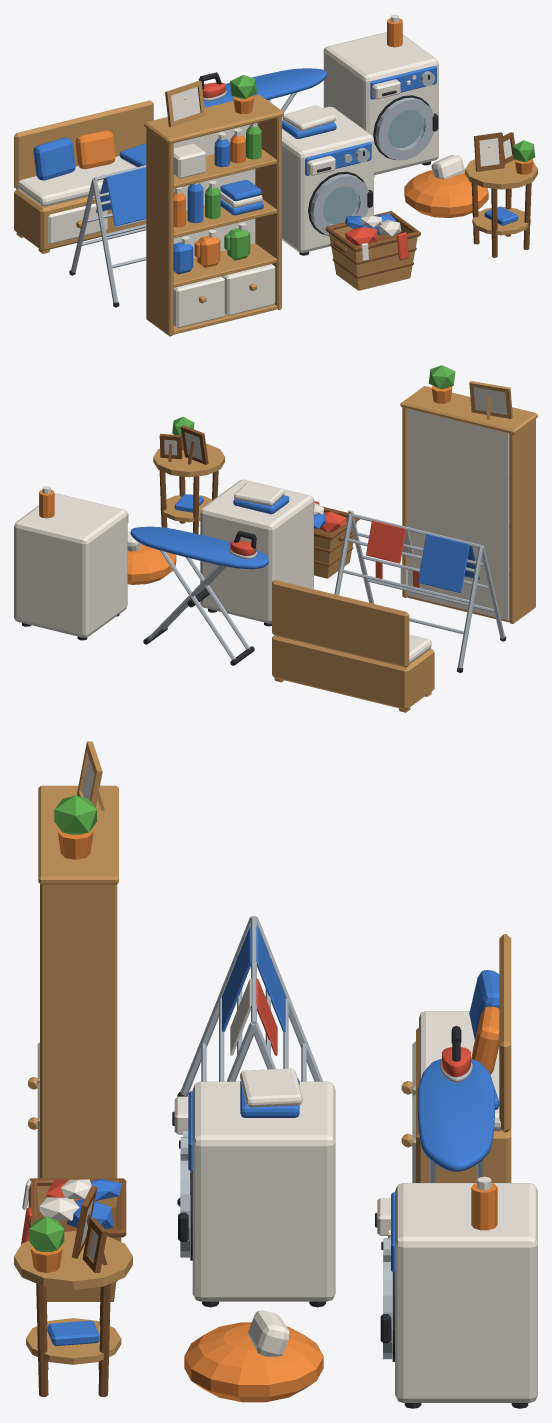
File: cosy-laundry-room.glb
3 renders of one model, top to bottom at view 1: azimuth 30°, elevation 25°; view 2: azimuth 150°, elevation 25°; view 3: azimuth 270°, elevation 25°, orthographic. The views are drawn at different scales.
Visible parts, largest first — view 1: Washer_Body, Dryer_Body, DetergentShelf_Side, StorageBench_Back, DetergentShelf_Side.001, FloorCushion_Body, LaundryBasket_Body, DetergentShelf_Top, StorageBench_Base, StorageBench_Seat, DetergentShelf_Drawer1, DetergentShelf_Drawer2 (+45 smaller); view 2: DetergentShelf_Back, Washer_Body, Dryer_Body, StorageBench_Back, StorageBench_Base, DetergentShelf_Side, IroningBoard_Cover, DetergentShelf_Top, DryingRack_Towel.001, FloorCushion_Body, SideTable_Top, DryingRack_Shirt.001 (+21 smaller); view 3: Washer_Body, Dryer_Body, DetergentShelf_Side.001, FloorCushion_Body, IroningBoard_Cover, DetergentShelf_Top, SideTable_Top, StorageBench_Seat, StorageBench_Base, StorageBench_Back, Dryer_Towel2, SideTable_Shelf (+18 smaller).
Boxes of the visible parts, box(x1,y1,x2,y2) form: Washer_Body: box(323, 32, 438, 175); Dryer_Body: box(282, 106, 373, 252); DetergentShelf_Side: box(146, 128, 173, 336); StorageBench_Back: box(14, 100, 153, 189); DetergentShelf_Side.001: box(255, 116, 281, 309); FloorCushion_Body: box(404, 170, 488, 217); LaundryBasket_Body: box(329, 213, 417, 290); DetergentShelf_Top: box(144, 94, 283, 143); StorageBench_Base: box(14, 189, 146, 250); StorageBench_Seat: box(17, 156, 136, 206); DetergentShelf_Drawer1: box(173, 276, 224, 327); DetergentShelf_Drawer2: box(221, 264, 275, 315); DetergentShelf_Back: box(407, 408, 509, 620); Washer_Body: box(14, 493, 127, 637); Dryer_Body: box(200, 479, 313, 623); StorageBench_Back: box(272, 580, 409, 667); StorageBench_Base: box(272, 635, 434, 709); DetergentShelf_Side: box(509, 419, 535, 623); IroningBoard_Cover: box(130, 526, 268, 569); DetergentShelf_Top: box(400, 386, 537, 434); DryingRack_Towel.001: box(418, 534, 469, 592); FloorCushion_Body: box(127, 544, 176, 584); SideTable_Top: box(153, 443, 224, 477); DryingRack_Shirt.001: box(366, 520, 406, 563); Washer_Body: box(395, 1183, 537, 1402); Dryer_Body: box(192, 1081, 335, 1301); DetergentShelf_Side.001: box(40, 884, 117, 1178); FloorCushion_Body: box(184, 1322, 323, 1402); IroningBoard_Cover: box(417, 1058, 494, 1171); DetergentShelf_Top: box(38, 785, 118, 884); SideTable_Top: box(14, 1231, 132, 1289); StorageBench_Seat: box(419, 1011, 501, 1130); StorageBench_Base: box(416, 1027, 511, 1182); StorageBench_Back: box(499, 934, 511, 1132); Dryer_Towel2: box(240, 1068, 302, 1107); SideTable_Shelf: box(26, 1318, 121, 1364).
Bounding box in the file's own units: 12.46 × 7.08 × 8.8.
